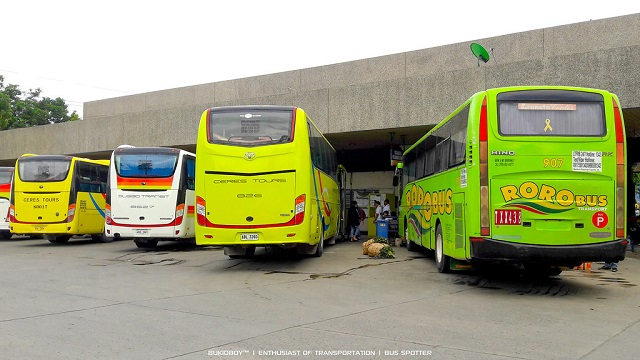bus: (396, 88, 629, 275), (196, 106, 345, 255), (104, 145, 196, 245), (13, 154, 105, 244)
person: (347, 199, 364, 241)
